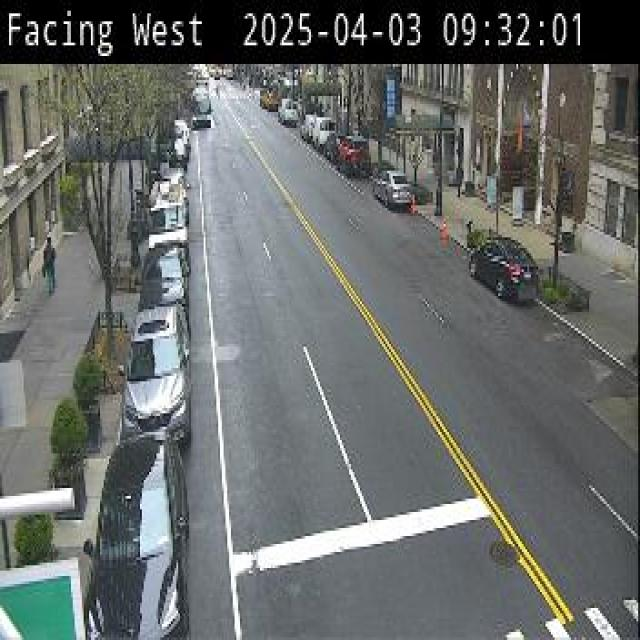open parking: (526, 279, 640, 375)
parkedCars: (85, 117, 206, 637), (301, 120, 417, 209), (459, 231, 556, 302)
